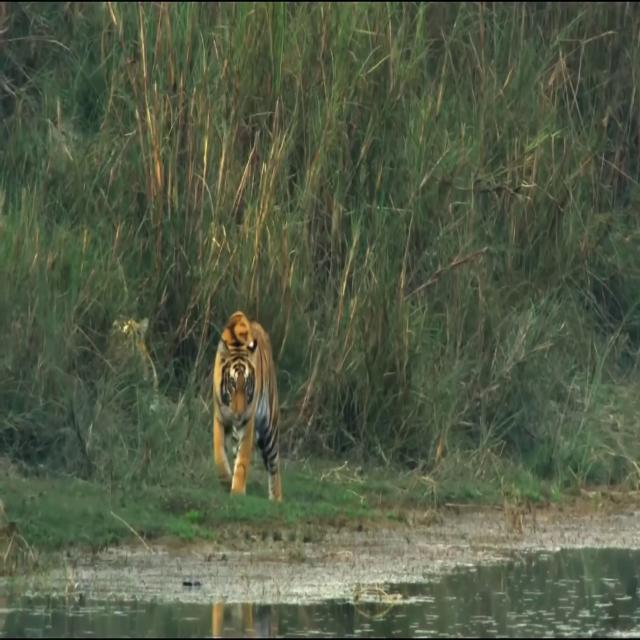tiger: (212, 310, 283, 504)
